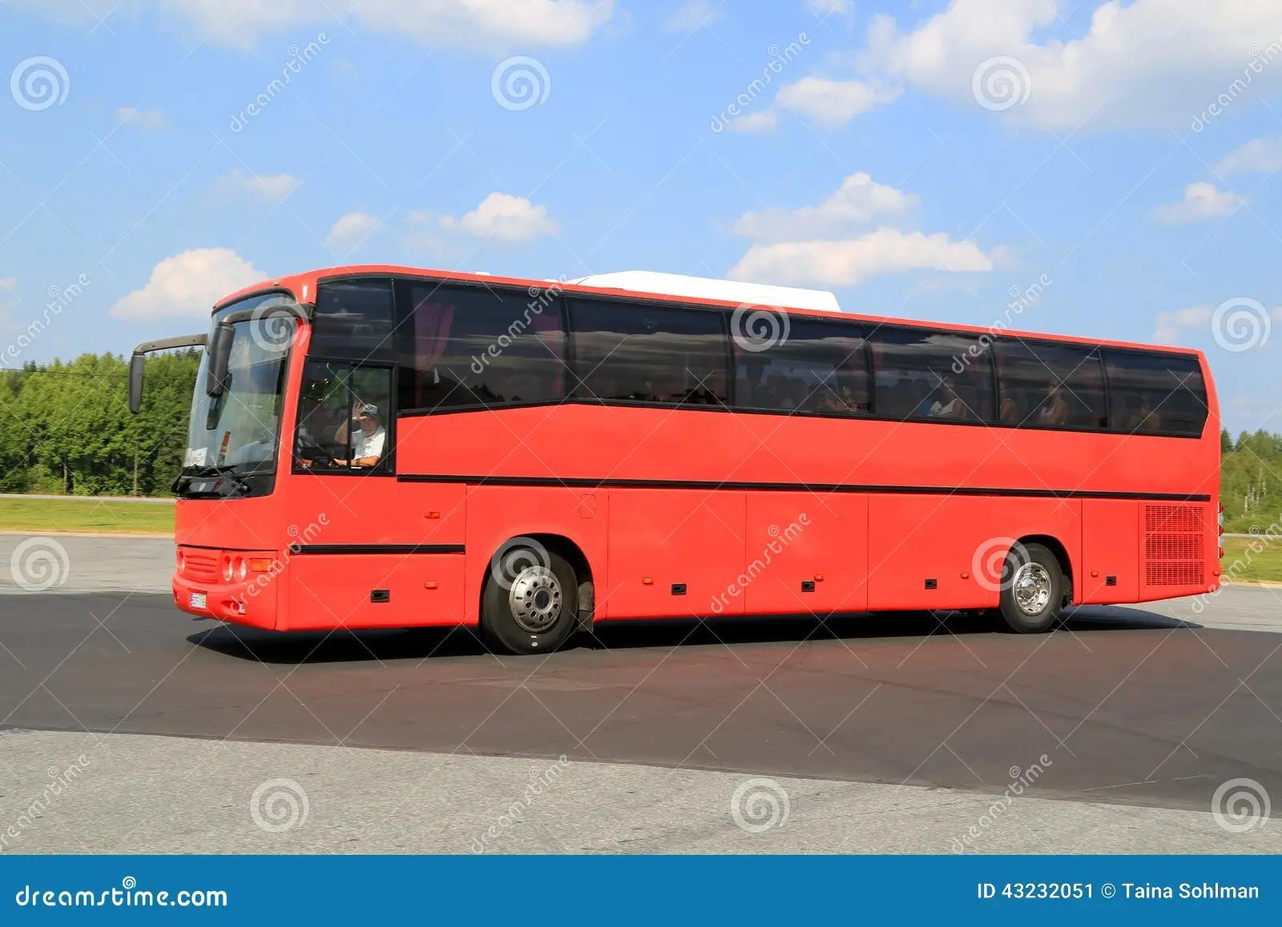Bus: (169, 267, 1225, 658)
